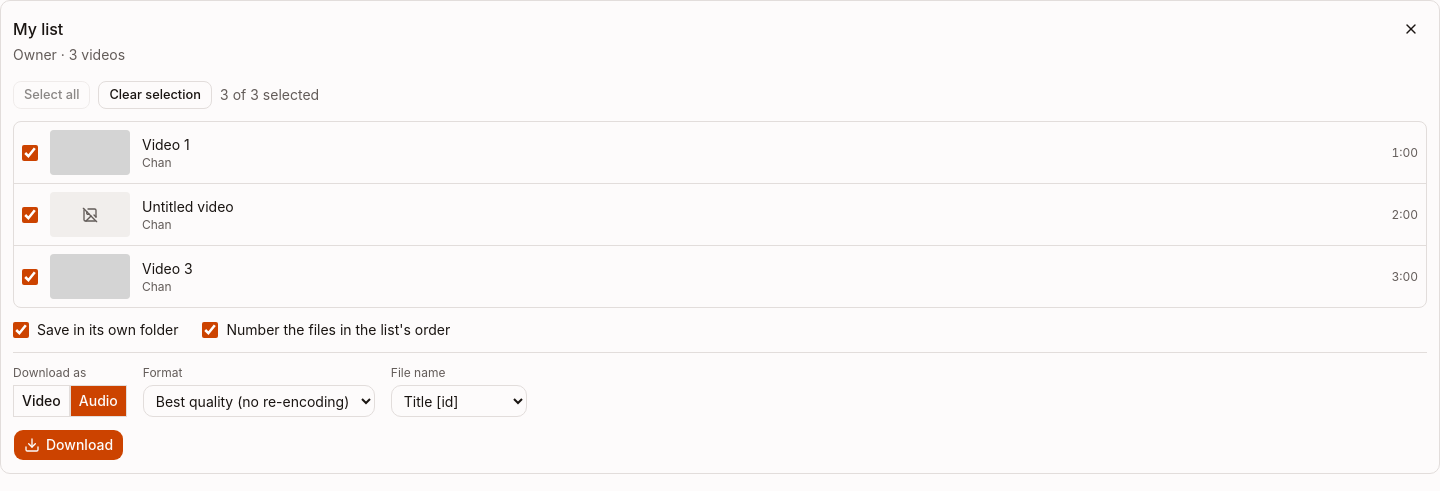
Test: the Download button › numbers by default and sends plain names when that is unticked
This screenshot has width=1440, height=491.
What coordinates should you click on to do the following:
click the checkbox labelled "Number the files in the list's order"
I would click on:
 (210, 330)
Its box is [202,322,218,338].
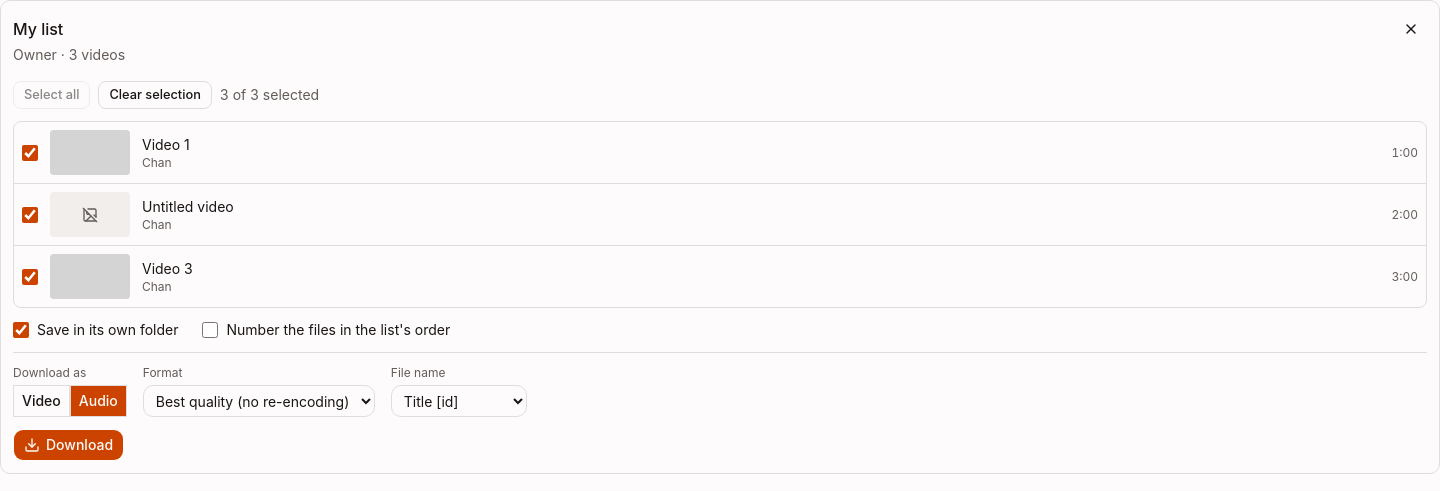
Result: the checkbox labelled "Number the files in the list's order" is not checked at [202,322,218,338]
What coordinates should you click on to do the following:
click the button "Download"
I would click on:
 (69, 445)
Its box is [13,429,124,461].
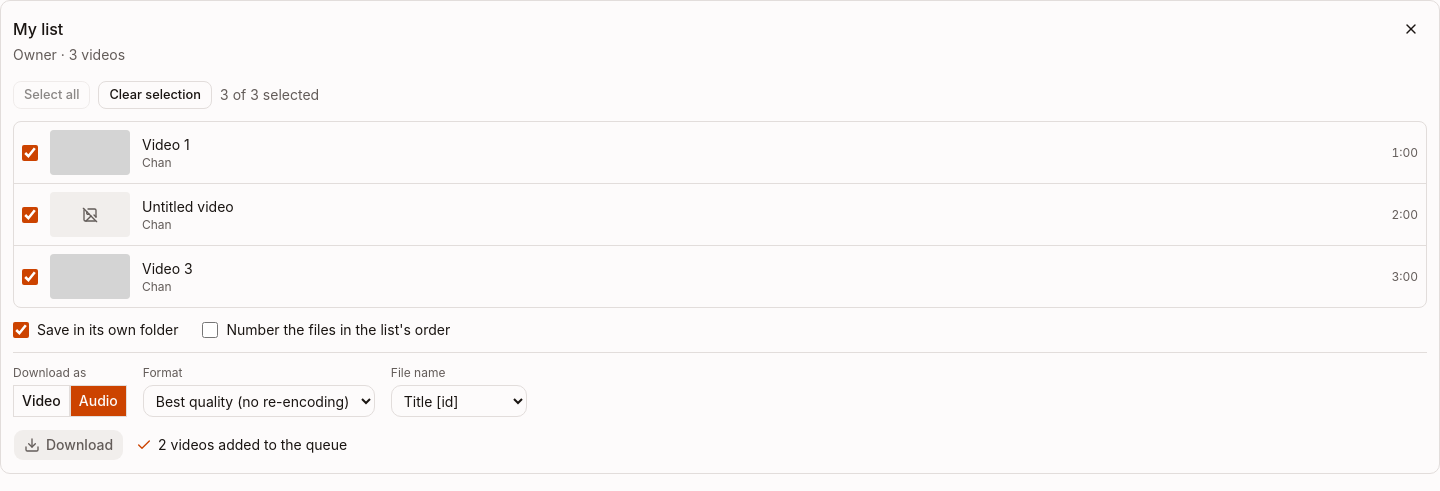
Result: the message "2 videos added to the queue" is shown at [136,435,347,455]
